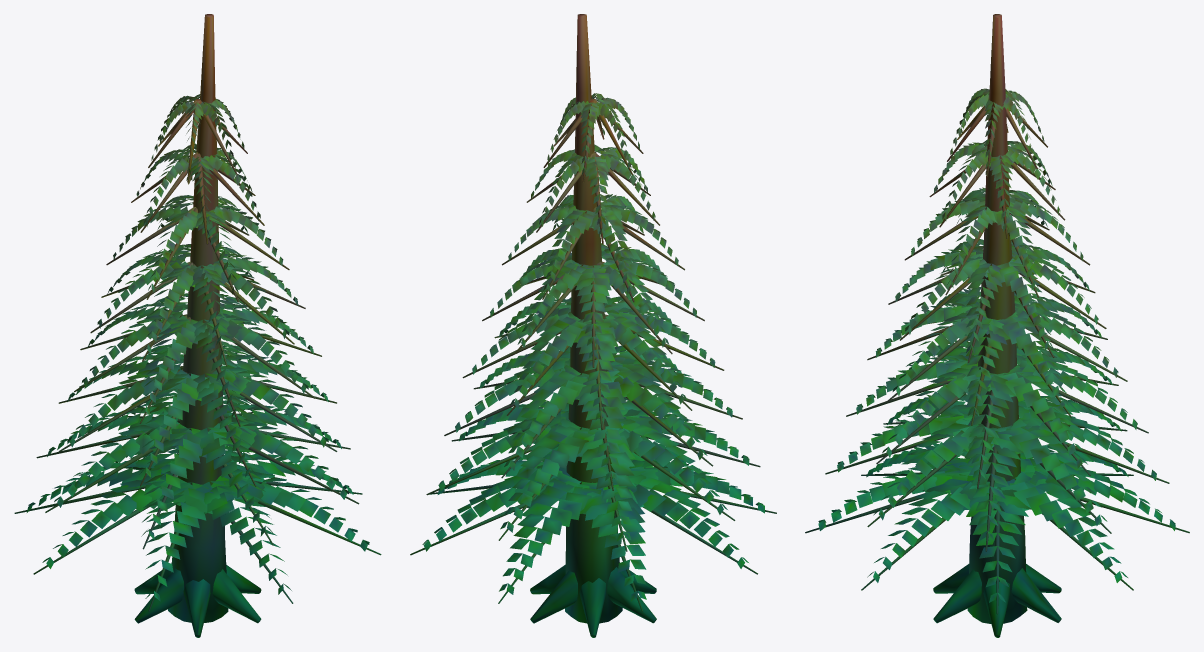
The model's file is Pine_A.fbx.
The picture shows the model from 3 angles, left to right: view 1: azimuth 30°, elevation 25°; view 2: azimuth 150°, elevation 25°; view 3: azimuth 270°, elevation 25°; orthographic projection.
Parts seen in each view (by area): view 1: Pine_A; view 2: Pine_A; view 3: Pine_A.
Boxes of the visible parts, x1,y1,x2,y2 form: Pine_A: (14, 14, 381, 637); Pine_A: (410, 14, 776, 637); Pine_A: (805, 14, 1189, 637).
Size of the model in its own units: 1.02 by 1.75 by 1.02.
